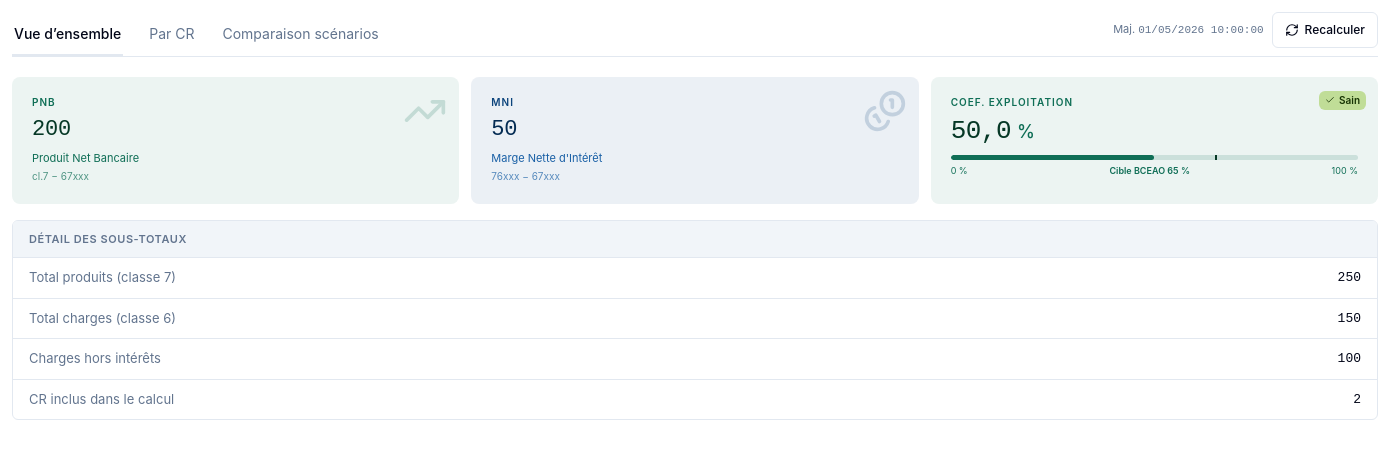
Test case: IndicateursContent › Onglet Comparaison : 2 colonnes scénarios
The width and height of the screenshot is (1390, 461).
Click the tab with test id "tab-comparaison" at (301, 34), box x1=220 y1=14 x2=381 y2=54
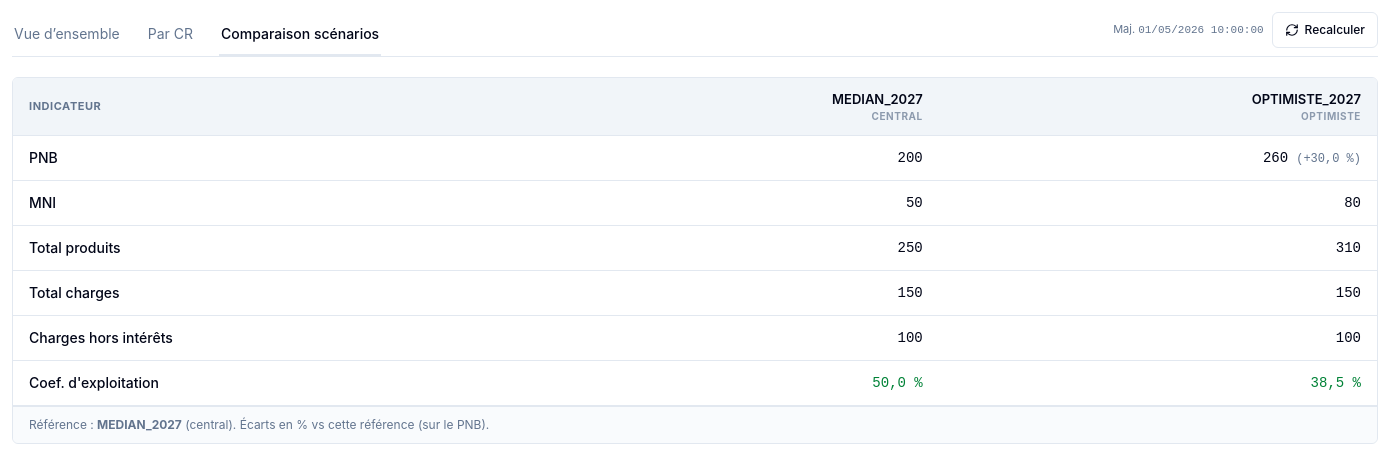
Expected: the element with test id "onglet-comparaison" is shown
Expected: the column heading with test id "col-scenario-MEDIAN_2027" is shown, x1=558 y1=78 x2=939 y2=135
Expected: the column heading with test id "col-scenario-OPTIMISTE_2027" is shown, x1=939 y1=78 x2=1377 y2=135
